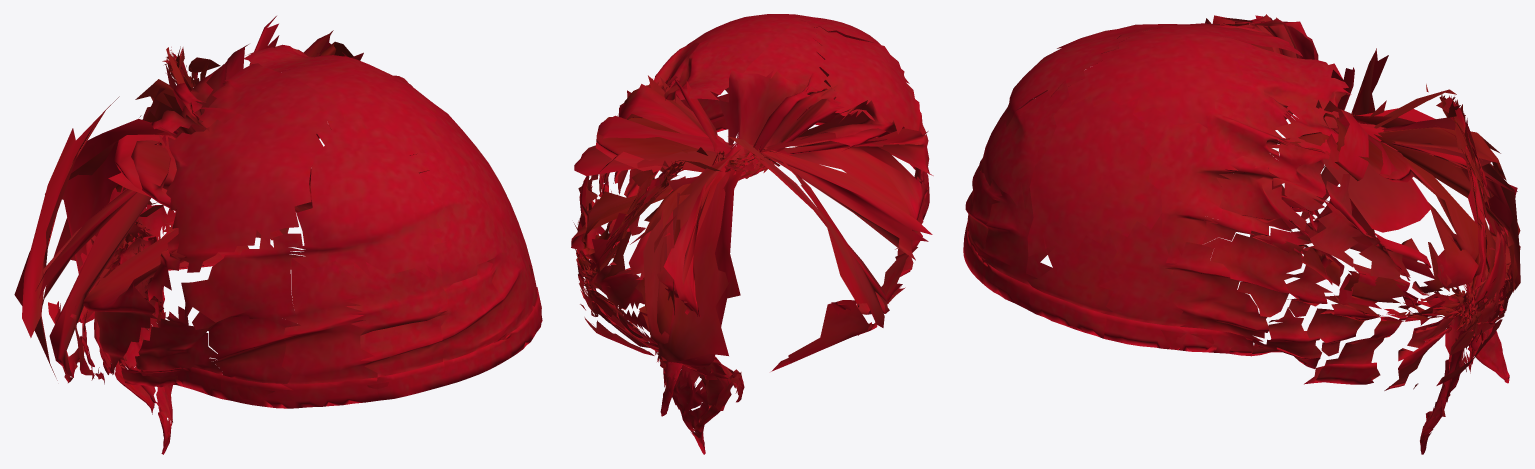
File: dante.mobile.glb
3 renders of one model, left to right at view 1: azimuth 30°, elevation 25°; view 2: azimuth 150°, elevation 25°; view 3: azimuth 270°, elevation 25°, orthographic. The views are drawn at different scales.
Visible parts, largest first — view 1: geometry_0; view 2: geometry_0; view 3: geometry_0.
Boxes of the visible parts, <box> form: geometry_0: <box>14,16,542,454</box>; geometry_0: <box>571,14,933,454</box>; geometry_0: <box>963,14,1520,454</box>.
Bounding box in the file's own units: 0.2204 × 0.2275 × 0.2652.
1 material, 1 textured.
